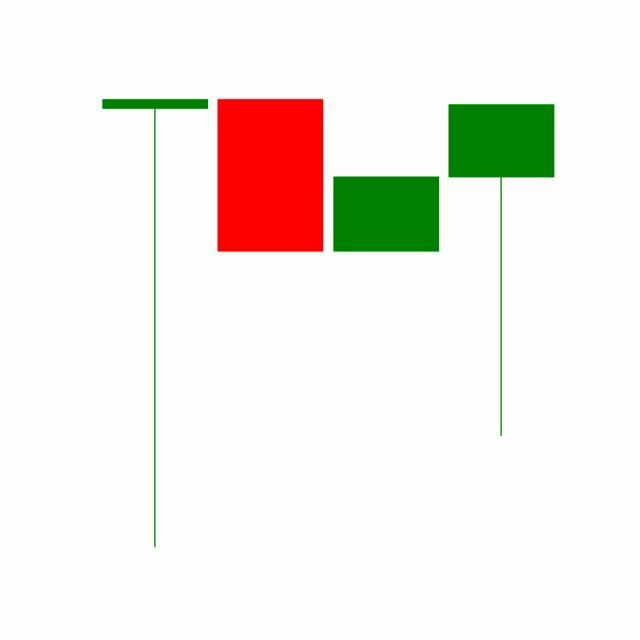Hammer: (444, 101, 560, 441)
